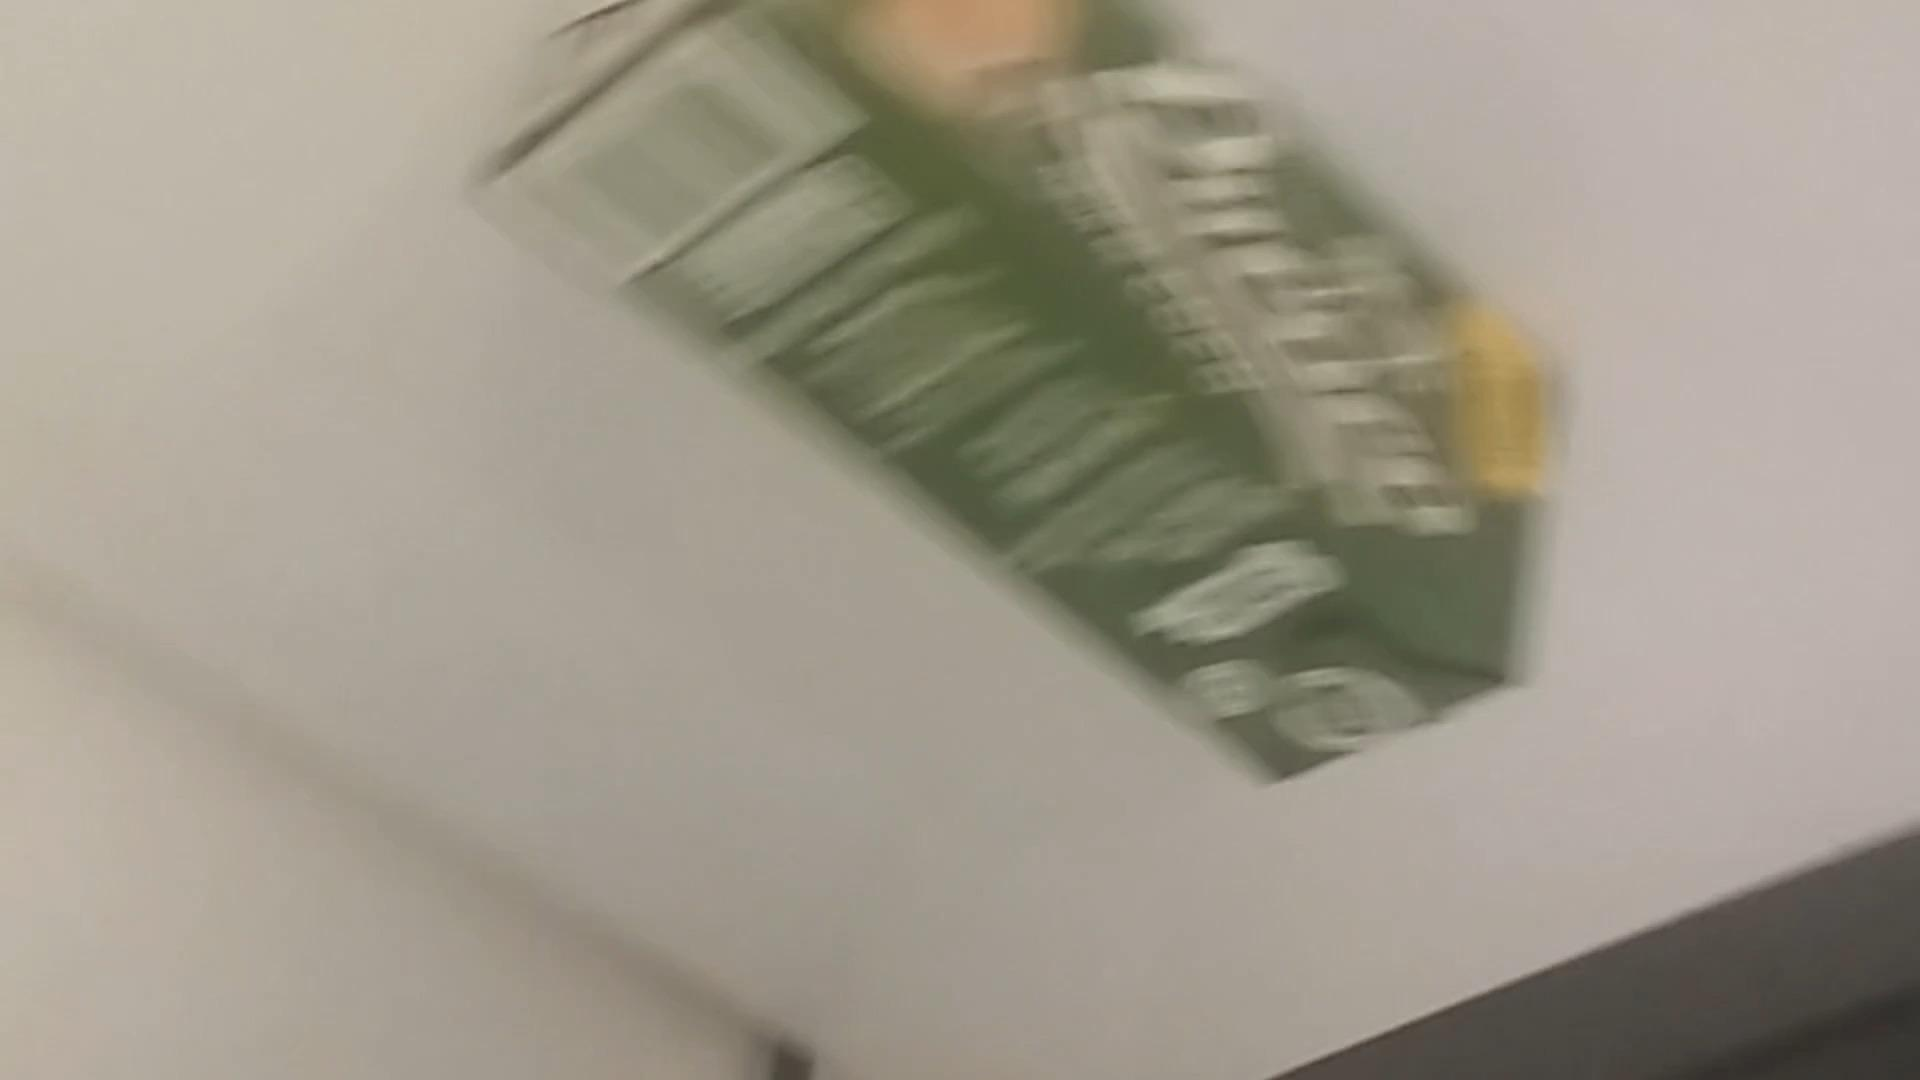coco: (475, 0, 1558, 798)
